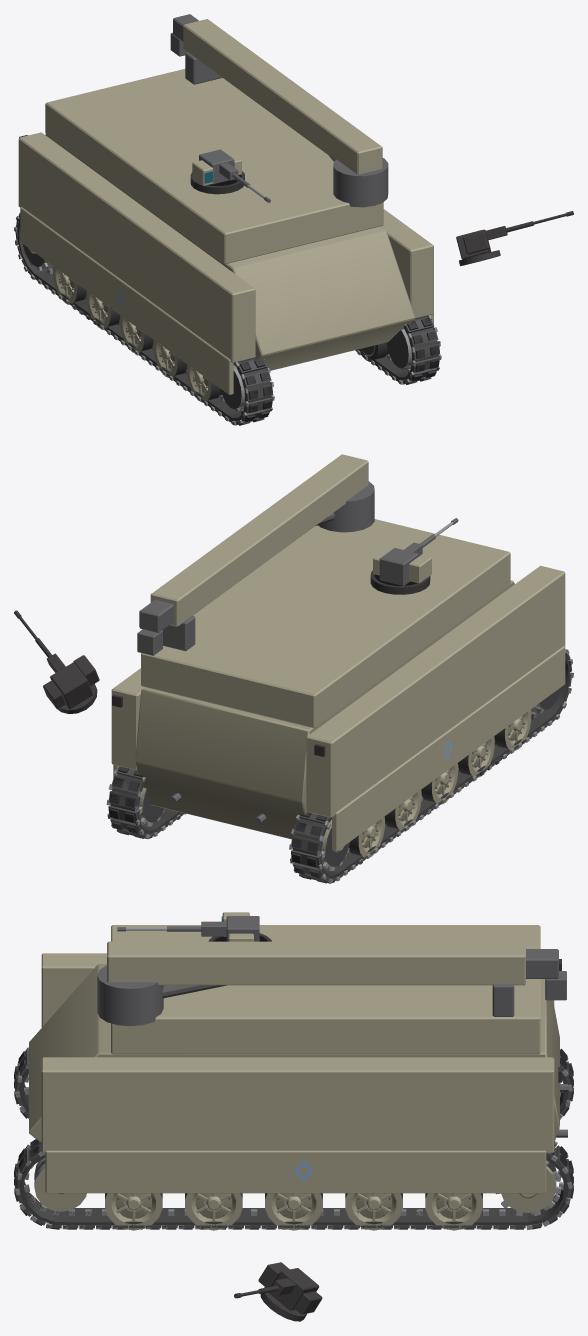
File: recoveryVehicle__k288a1.glb
The picture shows the model from 3 angles, top to bottom: view 1: azimuth 30°, elevation 25°; view 2: azimuth 150°, elevation 25°; view 3: azimuth 270°, elevation 25°; orthographic projection. The views are drawn at different scales.
Visible parts, largest first — view 1: Hull_Mesh, Wreck, Track_L_Mesh, Track_R_Mesh, Turret_Mesh, Idler_R_Mesh, Wheel_L4_Mesh, Wheel_L3_Mesh, Wheel_L1_Mesh, Wheel_L0_Mesh, Wheel_L2_Mesh, Idler_L_Mesh; view 2: Hull_Mesh, Wreck, Track_L_Mesh, Track_R_Mesh, Turret_Mesh, Wheel_L2_Mesh, Wheel_L4_Mesh, Wheel_L3_Mesh, Wheel_L1_Mesh, Wheel_L0_Mesh, Sprocket_L_Mesh, Sprocket_R_Mesh; view 3: Hull_Mesh, Track_R_Mesh, Wreck, Wheel_R3_Mesh, Wheel_R4_Mesh, Wheel_R2_Mesh, Wheel_R0_Mesh, Wheel_R1_Mesh, Track_L_Mesh, Sprocket_R_Mesh, Idler_R_Mesh, Turret_Mesh (+1 smaller).
Part boxes in pixels (x1,y1,x2,y2): Hull_Mesh: (18,14,433,394); Wreck: (14,171,573,425); Track_L_Mesh: (14,213,274,425); Track_R_Mesh: (355,315,441,384); Turret_Mesh: (192,149,241,185); Idler_R_Mesh: (386,329,412,368); Wheel_L4_Mesh: (187,364,221,402); Wheel_L3_Mesh: (153,340,187,377); Wheel_L1_Mesh: (86,291,120,328); Wheel_L0_Mesh: (53,266,86,304); Wheel_L2_Mesh: (120,315,153,352); Idler_L_Mesh: (220,364,245,409); Hull_Mesh: (111,454,565,851); Wreck: (14,570,573,882); Track_L_Mesh: (289,649,573,883); Track_R_Mesh: (106,766,186,838); Turret_Mesh: (373,548,431,585); Wheel_L2_Mesh: (421,763,458,804); Wheel_L4_Mesh: (494,709,531,750); Wheel_L3_Mesh: (458,736,494,777); Wheel_L1_Mesh: (384,790,421,831); Wheel_L0_Mesh: (349,816,384,857); Sprocket_L_Mesh: (321,819,349,871); Sprocket_R_Mesh: (139,787,165,826); Hull_Mesh: (29,925,567,1193); Track_R_Mesh: (14,1140,573,1230); Wreck: (14,933,572,1321); Wheel_R3_Mesh: (185,1193,242,1230); Wheel_R4_Mesh: (105,1193,162,1230); Wheel_R2_Mesh: (265,1193,322,1230); Wheel_R0_Mesh: (425,1193,482,1230); Wheel_R1_Mesh: (345,1193,402,1230); Track_L_Mesh: (14,1047,573,1119); Sprocket_R_Mesh: (495,1160,561,1216); Idler_R_Mesh: (34,1157,86,1211); Turret_Mesh: (221,912,259,941).
Size of what is drawn, in the model's own units: 6.01 by 2.98 by 5.73.
